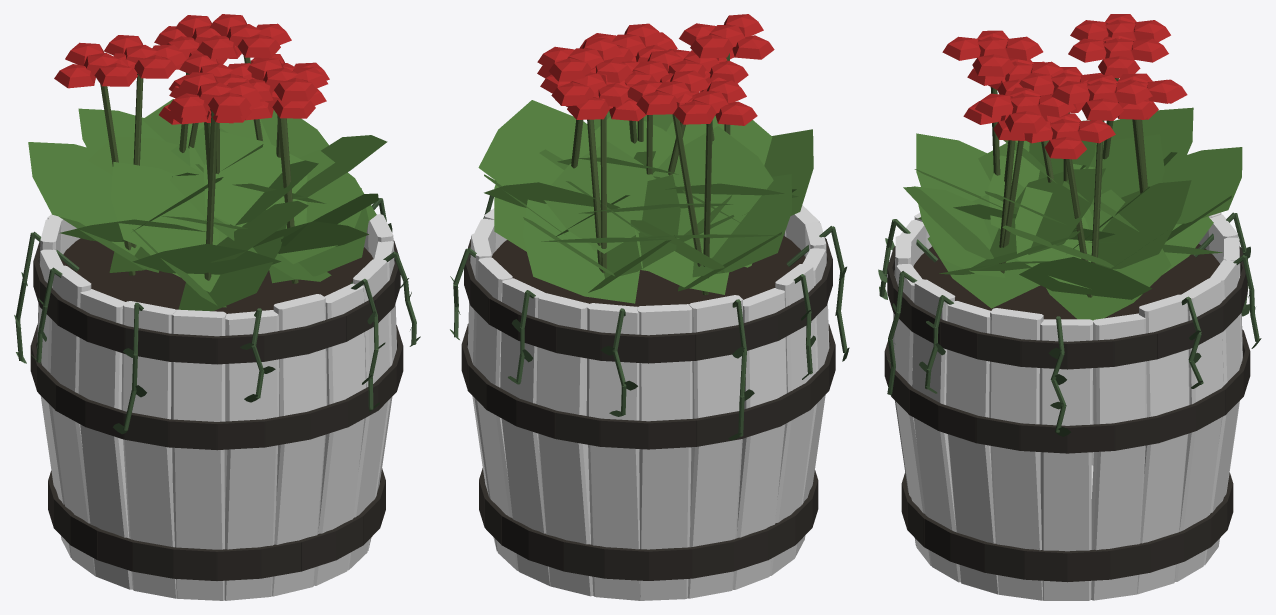
The model's file is SilverbrookPropFlowerTub.glb.
3 renders of one model, left to right at view 1: azimuth 30°, elevation 25°; view 2: azimuth 150°, elevation 25°; view 3: azimuth 270°, elevation 25°, orthographic. The views are drawn at different scales.
Visible parts, largest first — view 1: SM_SBFlowerTub_Staves, SM_SBFlowerTub_Leaves, SM_SBFlowerTub_Hoops, SM_SBFlowerTub_Blooms, SM_SBFlowerTub_Soil, SM_SBFlowerTub_Thyme, SM_SBFlowerTub_Stems; view 2: SM_SBFlowerTub_Staves, SM_SBFlowerTub_Leaves, SM_SBFlowerTub_Hoops, SM_SBFlowerTub_Blooms, SM_SBFlowerTub_Soil, SM_SBFlowerTub_Stems, SM_SBFlowerTub_Thyme; view 3: SM_SBFlowerTub_Staves, SM_SBFlowerTub_Leaves, SM_SBFlowerTub_Hoops, SM_SBFlowerTub_Blooms, SM_SBFlowerTub_Thyme, SM_SBFlowerTub_Soil, SM_SBFlowerTub_Stems.
Part boxes in pixels (bbox=[...]): SM_SBFlowerTub_Staves: bbox=[37, 214, 396, 600]; SM_SBFlowerTub_Leaves: bbox=[28, 99, 387, 311]; SM_SBFlowerTub_Hoops: bbox=[30, 240, 403, 580]; SM_SBFlowerTub_Blooms: bbox=[54, 14, 329, 124]; SM_SBFlowerTub_Soil: bbox=[60, 238, 373, 313]; SM_SBFlowerTub_Thyme: bbox=[14, 198, 420, 434]; SM_SBFlowerTub_Stems: bbox=[100, 56, 298, 283]; SM_SBFlowerTub_Staves: bbox=[467, 205, 829, 600]; SM_SBFlowerTub_Leaves: bbox=[478, 100, 813, 303]; SM_SBFlowerTub_Hoops: bbox=[461, 238, 835, 580]; SM_SBFlowerTub_Blooms: bbox=[537, 14, 774, 125]; SM_SBFlowerTub_Soil: bbox=[491, 236, 805, 306]; SM_SBFlowerTub_Stems: bbox=[571, 53, 730, 295]; SM_SBFlowerTub_Thyme: bbox=[450, 195, 849, 440]; SM_SBFlowerTub_Staves: bbox=[892, 212, 1242, 600]; SM_SBFlowerTub_Leaves: bbox=[903, 107, 1242, 320]; SM_SBFlowerTub_Hoops: bbox=[884, 246, 1250, 582]; SM_SBFlowerTub_Blooms: bbox=[942, 14, 1187, 159]; SM_SBFlowerTub_Thyme: bbox=[878, 212, 1261, 436]; SM_SBFlowerTub_Soil: bbox=[913, 244, 1219, 319]; SM_SBFlowerTub_Stems: bbox=[990, 78, 1147, 297].
Size of the model in its own units: 0.5613 by 0.7481 by 0.5447.
